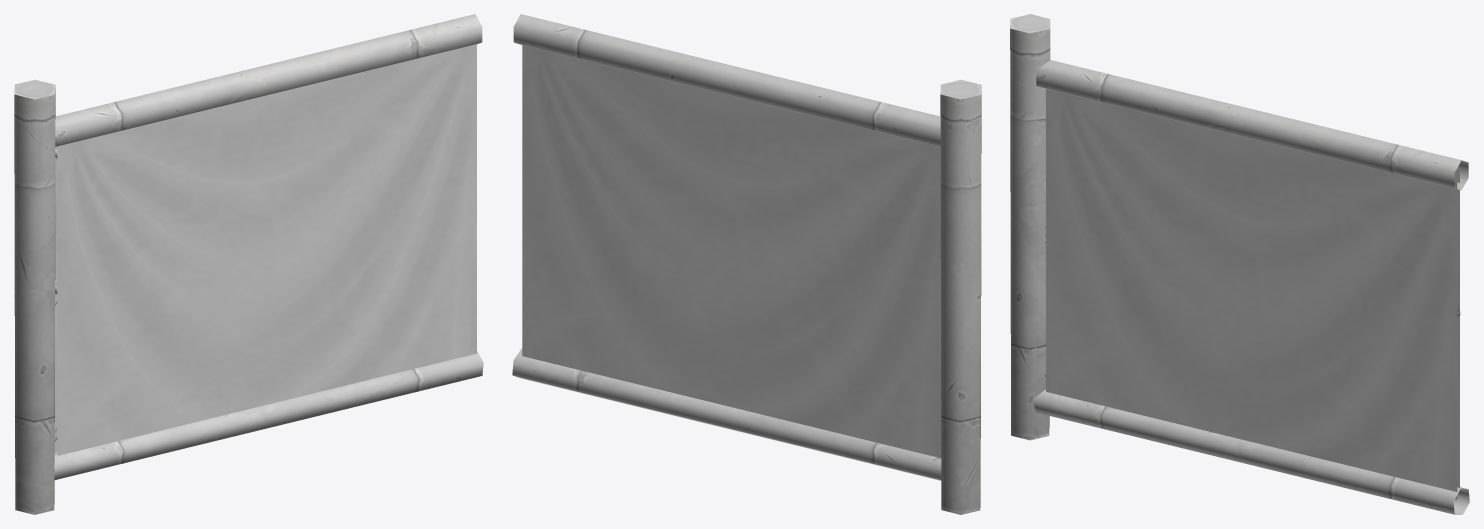
The model's file is Pfb_Barbed_Gray.fbx.
The picture shows the model from 3 angles, left to right: view 1: azimuth 30°, elevation 25°; view 2: azimuth 150°, elevation 25°; view 3: azimuth 330°, elevation 25°; orthographic projection. The views are drawn at different scales.
Parts seen in each view (by area): view 1: Mat_Fabric_01_1, Mat_BarbedWire_01; view 2: Mat_Fabric_01_1, Mat_BarbedWire_01; view 3: Mat_Fabric_01_1, Mat_BarbedWire_01.
Part boxes in pixels (box(x1,y1,x2,y2)): Mat_Fabric_01_1: box(54, 44, 476, 455); Mat_BarbedWire_01: box(14, 14, 483, 514); Mat_Fabric_01_1: box(522, 45, 941, 458); Mat_BarbedWire_01: box(512, 14, 981, 514); Mat_Fabric_01_1: box(1046, 88, 1459, 499); Mat_BarbedWire_01: box(1010, 14, 1469, 514).
Bounding box in the file's own units: 2.32 × 2 × 0.179.
2 materials, 2 textured.
